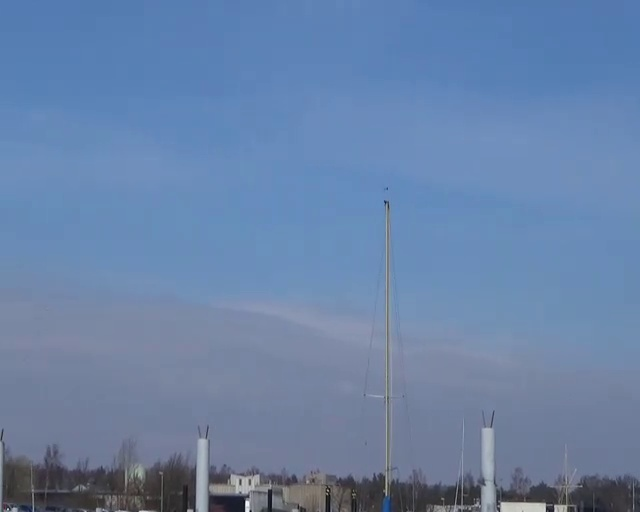BIRD: (86, 356, 98, 372)
